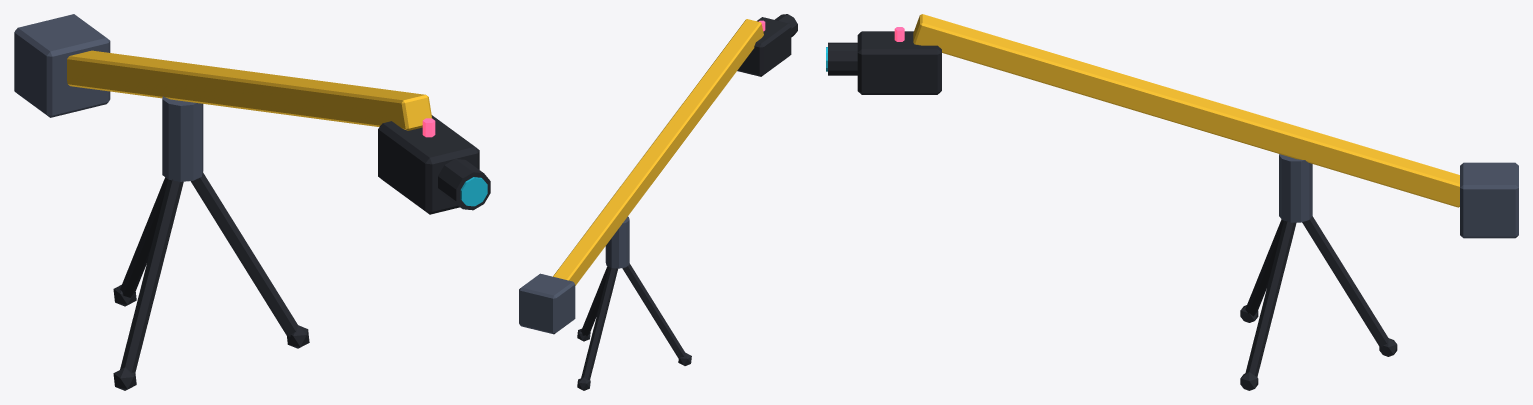
The model's file is CameraCrane.fbx.
3 views of the same model, side by side, from view 1: azimuth 30°, elevation 25°; view 2: azimuth 150°, elevation 25°; view 3: azimuth 270°, elevation 25° (orthographic). The views are drawn at different scales.
Visible parts, largest first — view 1: CameraCrane; view 2: CameraCrane; view 3: CameraCrane.
Boxes of the visible parts, x1,y1,x2,y2 form: CameraCrane: (14, 14, 490, 390); CameraCrane: (519, 14, 797, 390); CameraCrane: (826, 14, 1518, 390).
Bounding box in the file's own units: 4.26 × 8.87 × 16.45.
2 materials, 1 textured.
